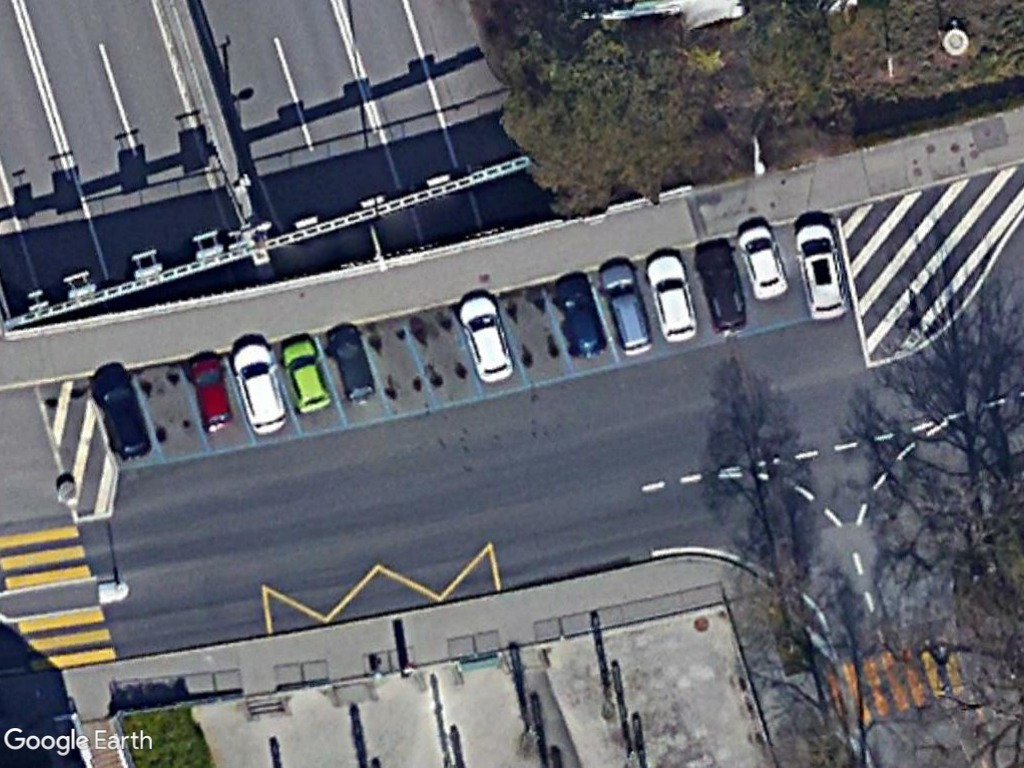car: (230, 340, 292, 439), (453, 292, 515, 388), (91, 368, 155, 461), (795, 221, 851, 321), (645, 253, 699, 345), (602, 260, 653, 356), (554, 272, 609, 361), (324, 321, 379, 402), (282, 338, 334, 415), (738, 222, 788, 301), (190, 353, 237, 436)
